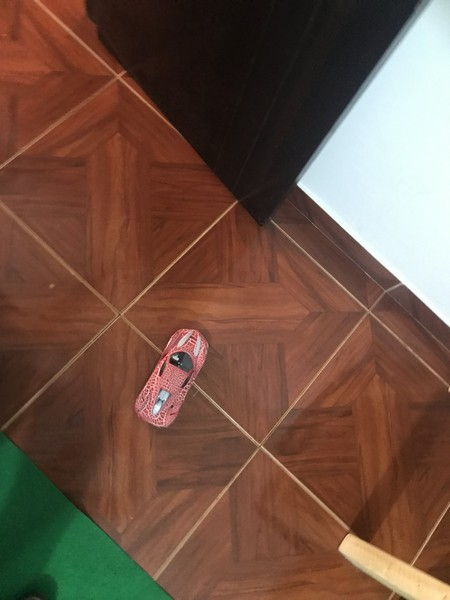RC: (134, 326, 213, 432)
